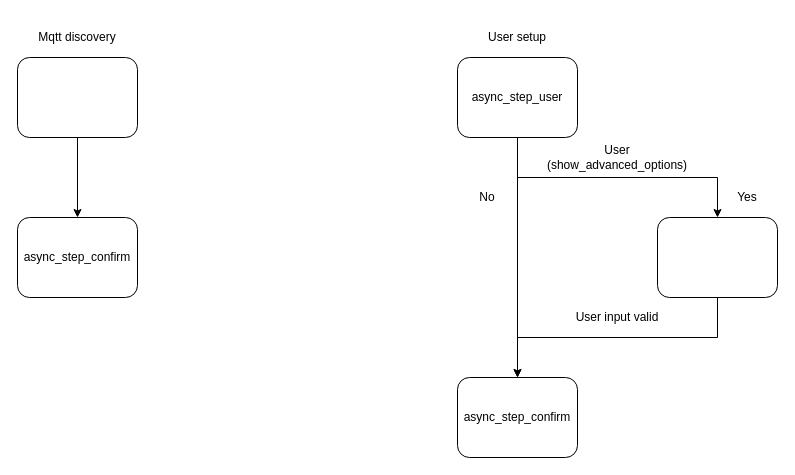
This 795x475 diagram has some shape labels left out. Each missing label, with the centre of its shape:
"async_step_config" belongs at pixel 717 257.
"async_step_mqtt" belongs at pixel 77 97.
